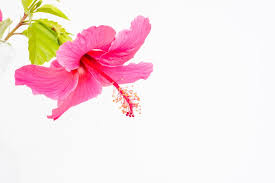hybiscus: (15, 16, 176, 120)
